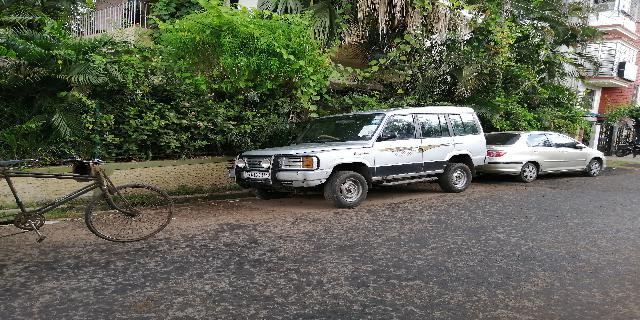Car: (232, 100, 490, 215), (488, 127, 612, 185)
Rickshaw: (1, 149, 177, 268)
